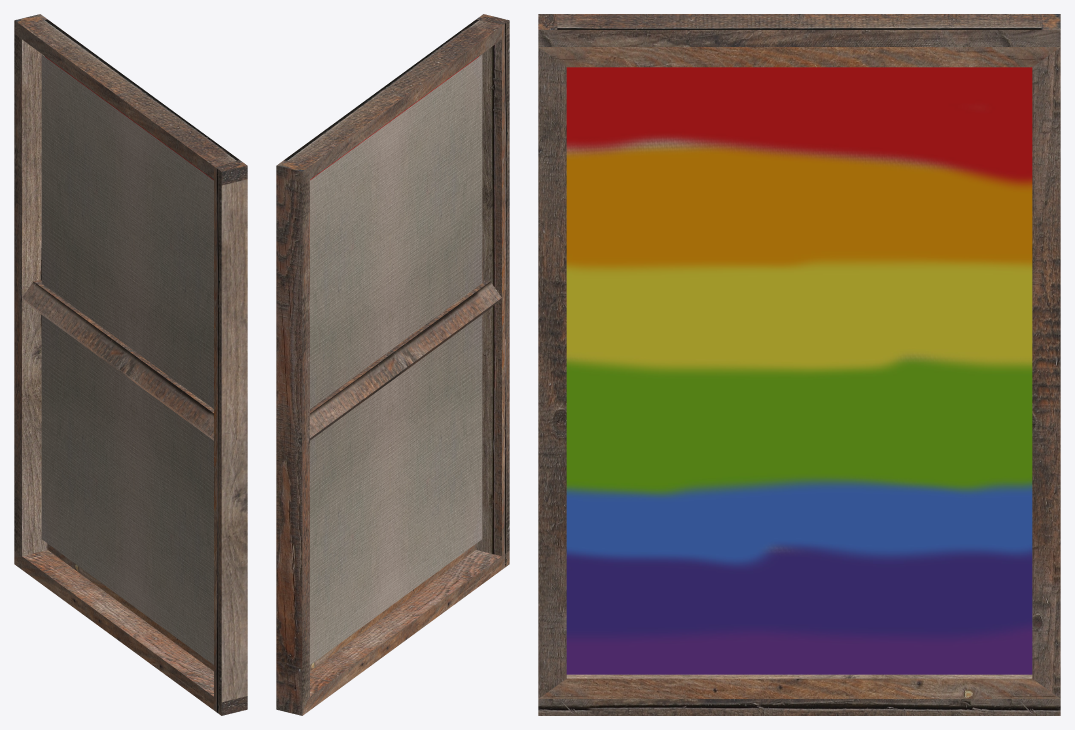
Rendered from Canvas_Ahrt.glb.
The picture shows the model from 3 angles, left to right: view 1: azimuth 30°, elevation 25°; view 2: azimuth 150°, elevation 25°; view 3: azimuth 270°, elevation 25°; orthographic projection. The views are drawn at different scales.
Visible parts, largest first — view 1: Plane; view 2: Plane; view 3: Plane.
Part boxes in pixels (bbox=[...]): Plane: bbox=[14, 14, 247, 715]; Plane: bbox=[276, 14, 509, 715]; Plane: bbox=[538, 14, 1060, 715].
Bounding box in the file's own units: 0.0997 × 2 × 1.38.
Materials: 4 (3 with a texture image).
